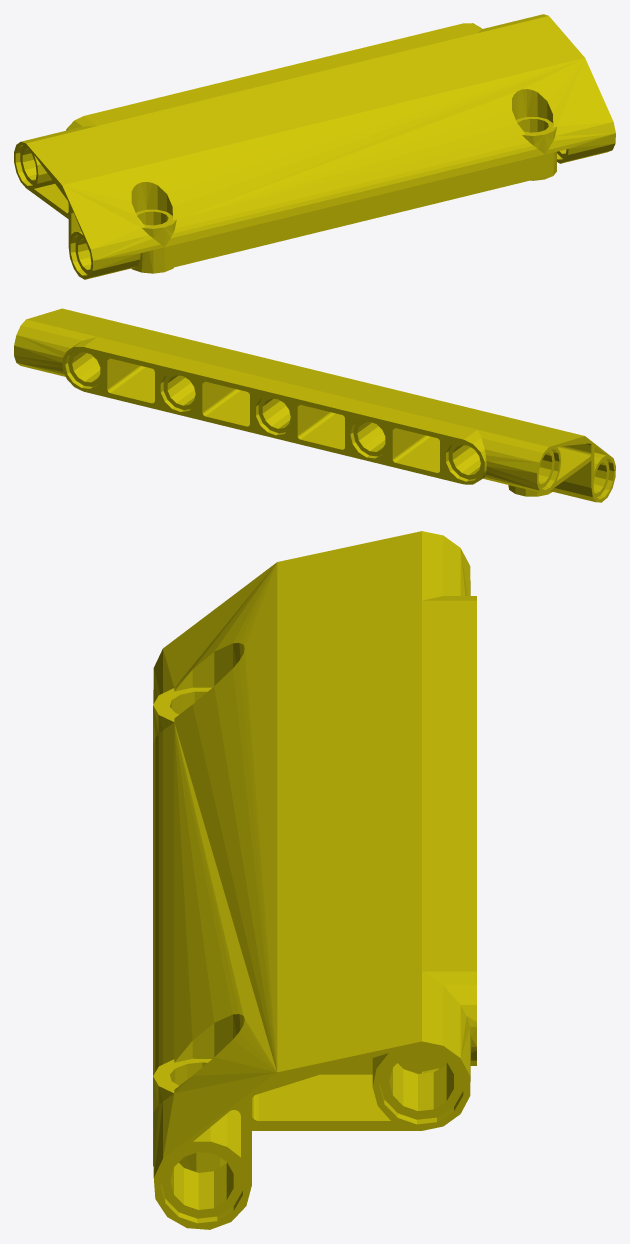
File: Ye_4540613_AVV.fbx
3 views of the same model, one above another, from view 1: azimuth 30°, elevation 25°; view 2: azimuth 150°, elevation 25°; view 3: azimuth 270°, elevation 25° (orthographic). The views are drawn at different scales.
Visible parts, largest first — view 1: Ye_4540613_AVV; view 2: Ye_4540613_AVV; view 3: Ye_4540613_AVV.
Boxes of the visible parts, x1,y1,x2,y2 form: Ye_4540613_AVV: (14, 14, 615, 279); Ye_4540613_AVV: (14, 308, 615, 502); Ye_4540613_AVV: (153, 531, 476, 1229).
Size of the model in its own units: 8.8 by 1.56 by 2.36.
